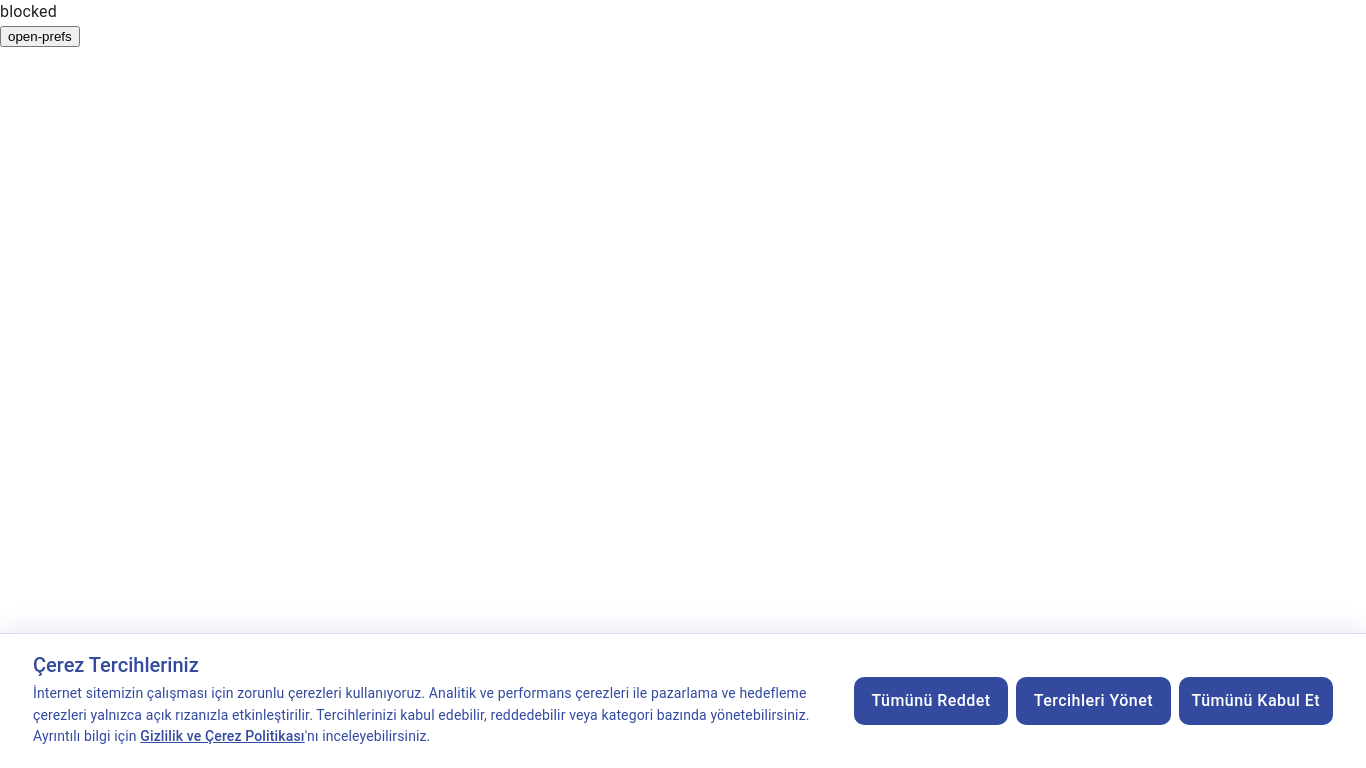
Test: CookieConsentProvider — banner actions › reject-all keeps only necessary and toasts
The width and height of the screenshot is (1366, 768).
Step 1. Click the button "Tümünü Reddet" → point(931, 701), box [854,677,1008,725]
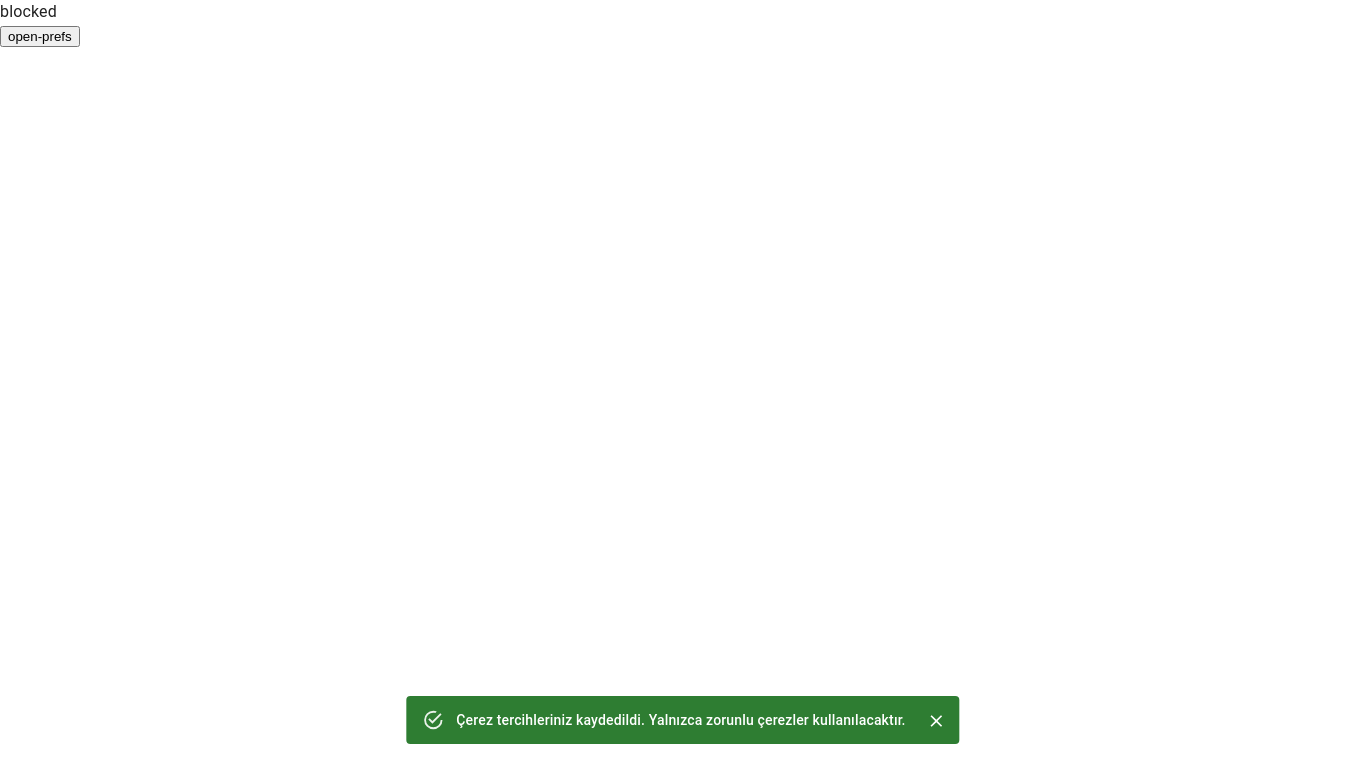
Expected: the text with test id "analytics-gate" reads "blocked", [0,2,57,21]
Expected: the text "Çerez tercihleriniz kaydedildi. Yalnızca zorunlu çerezler kullanılacaktır." is shown, [456,712,906,728]
